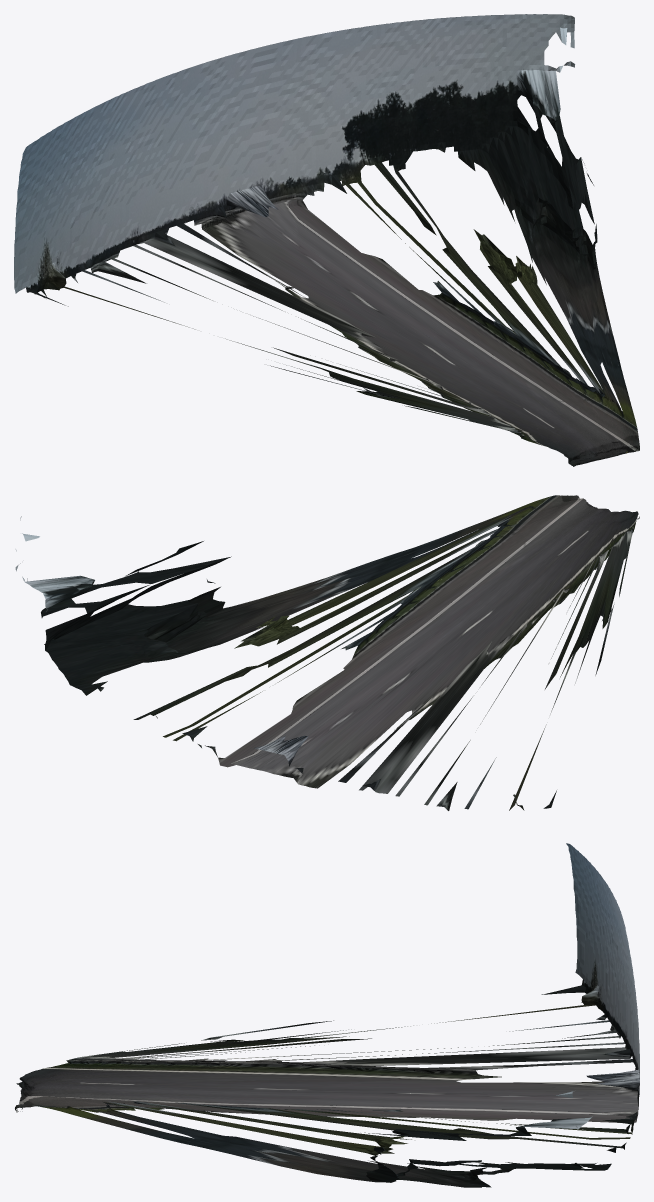
The picture shows the model from 3 angles, top to bottom: view 1: azimuth 30°, elevation 25°; view 2: azimuth 150°, elevation 25°; view 3: azimuth 270°, elevation 25°; orthographic projection. The views are drawn at different scales.
Visible parts, largest first — view 1: defaultobject; view 2: defaultobject; view 3: defaultobject.
Part boxes in pixels (x1=…): defaultobject: x1=14, y1=14, x2=639, y2=466; defaultobject: x1=15, y1=495, x2=639, y2=810; defaultobject: x1=15, y1=843, x2=639, y2=1187.
Bounding box in the file's own units: 40.95 × 12.35 × 44.55.
Materials: 1 (1 with a texture image).
